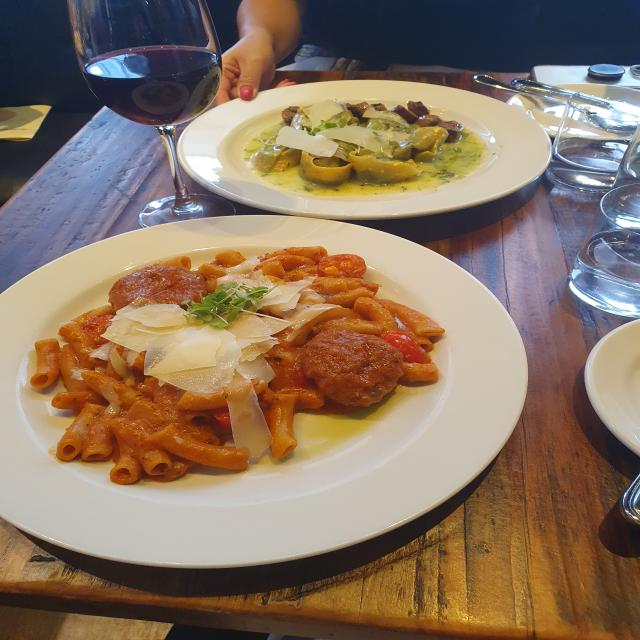Cup: (71, 3, 236, 226), (567, 182, 640, 318)
Plate: (0, 214, 529, 569), (177, 79, 552, 220), (584, 318, 640, 457)
